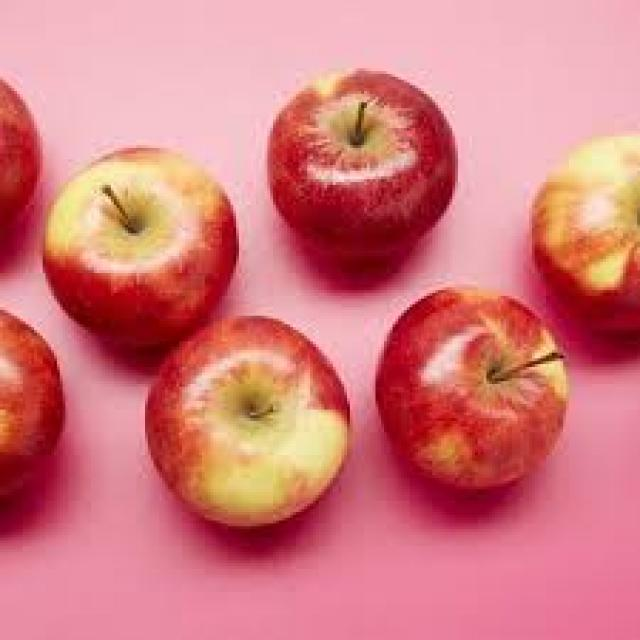organic waste: (142, 313, 350, 526), (40, 142, 236, 350), (373, 282, 566, 486), (267, 68, 458, 256), (529, 131, 637, 324), (0, 304, 63, 503), (0, 74, 40, 233)
